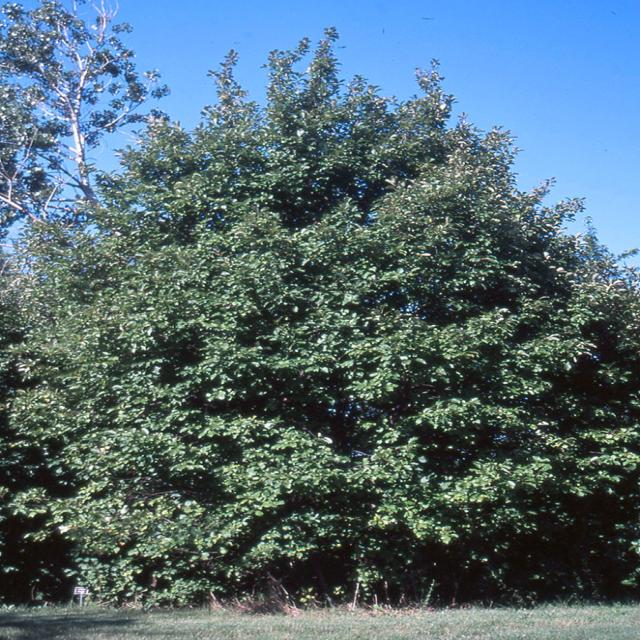Prunus virginiana: (31, 29, 632, 598)
